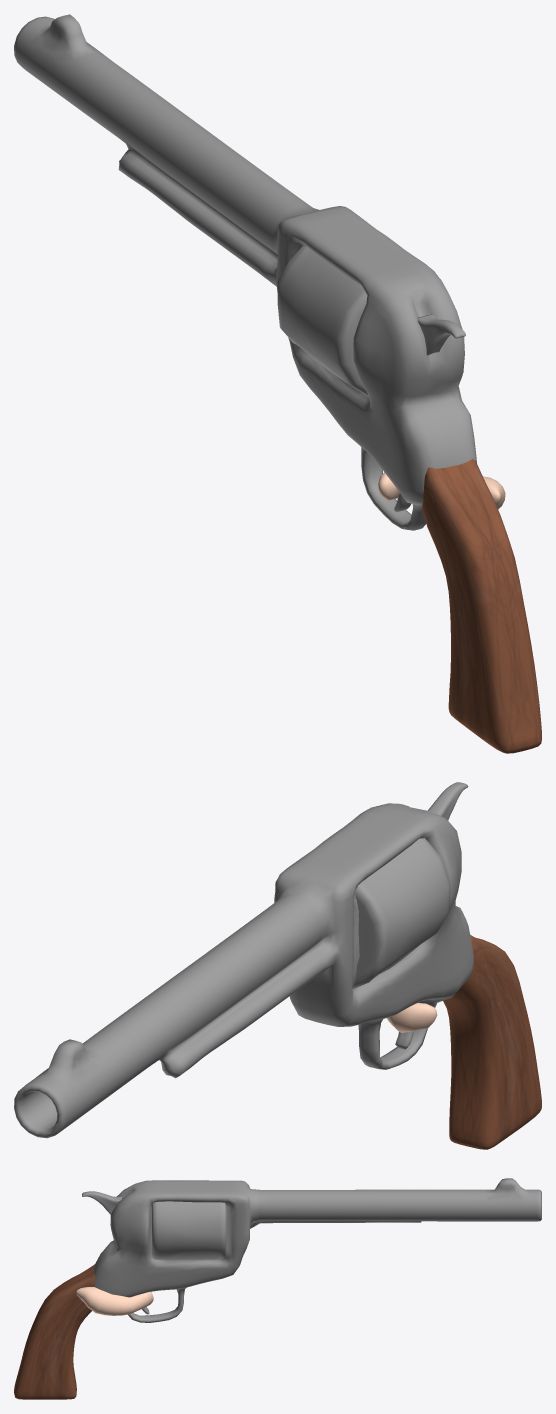
The model's file is Revolver.fbx.
The picture shows the model from 3 angles, top to bottom: view 1: azimuth 30°, elevation 25°; view 2: azimuth 150°, elevation 25°; view 3: azimuth 270°, elevation 25°; orthographic projection. The views are drawn at different scales.
Visible parts, largest first — view 1: Retopo_Revolver.001, Retopo_revolver handle.001, Retopo_revolver clip.001, Retopo_revolver hammer.001; view 2: Retopo_Revolver.001, Retopo_revolver handle.001, Retopo_revolver clip.001, Retopo_revolver finger, Retopo_revolver hammer.001; view 3: Retopo_Revolver.001, Retopo_revolver handle.001, Retopo_revolver clip.001, Retopo_revolver finger, Retopo_revolver hammer.001.
Part boxes in pixels (bbox=[...]): Retopo_Revolver.001: bbox=[14, 14, 476, 530]; Retopo_revolver handle.001: bbox=[422, 459, 541, 753]; Retopo_revolver clip.001: bbox=[277, 245, 368, 396]; Retopo_revolver hammer.001: bbox=[417, 314, 465, 355]; Retopo_Revolver.001: bbox=[14, 803, 473, 1138]; Retopo_revolver handle.001: bbox=[443, 935, 541, 1149]; Retopo_revolver clip.001: bbox=[352, 838, 450, 988]; Retopo_revolver finger: bbox=[386, 1003, 437, 1032]; Retopo_revolver hammer.001: bbox=[427, 782, 468, 820]; Retopo_Revolver.001: bbox=[93, 1178, 541, 1322]; Retopo_revolver handle.001: bbox=[14, 1264, 95, 1399]; Retopo_revolver clip.001: bbox=[152, 1201, 226, 1259]; Retopo_revolver finger: bbox=[76, 1287, 153, 1315]; Retopo_revolver hammer.001: bbox=[82, 1191, 121, 1214].
Size of the model in its own units: 31.29 by 103 by 227.
Materials: 6 (6 with a texture image).
